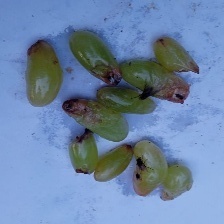grapes: (32, 41, 176, 214)
